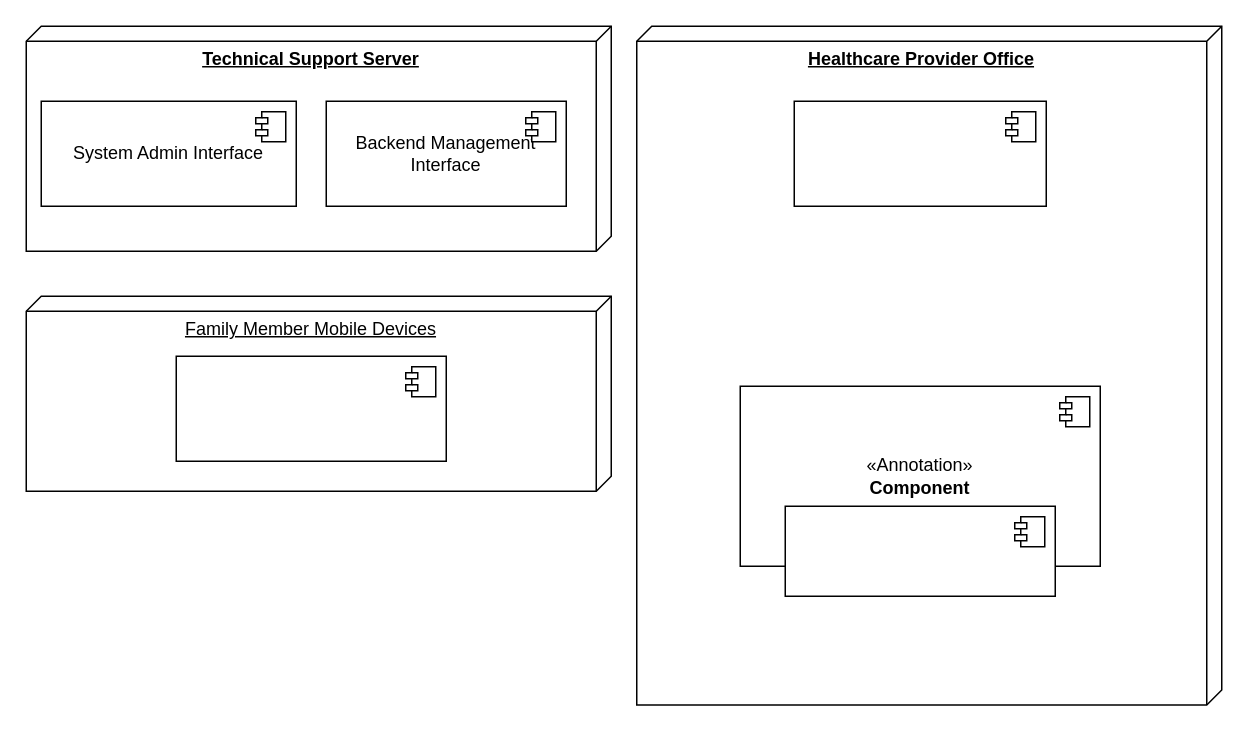
The diagram is 1248 pixels wide and 732 high, and some of its shapes have lost their labels. The centre of each missing label's shape, as x and y in pixels:
"Health Data Platform" goes at pixel 919 550.
"Healthcare App" goes at pixel 919 153.
"Smart and Safe Homecare App" goes at pixel 310 408.
